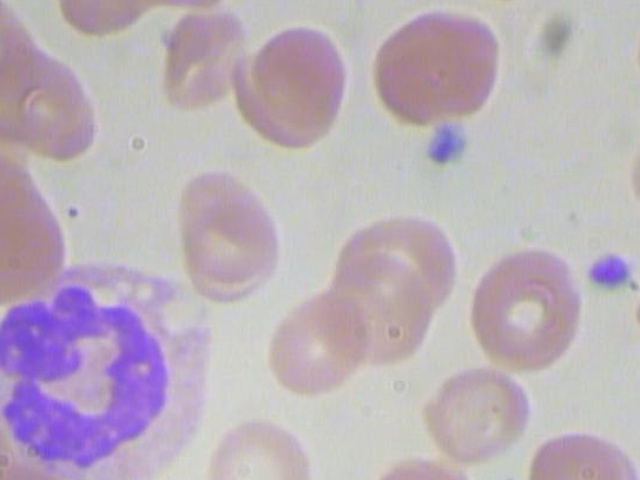Platelets: (574, 243, 633, 293), (424, 116, 474, 164)
RBC: (371, 8, 505, 131), (464, 244, 584, 380), (325, 248, 440, 373), (173, 163, 281, 292), (248, 14, 348, 137), (419, 364, 531, 469), (263, 290, 374, 395), (162, 7, 253, 118), (200, 419, 314, 480), (524, 421, 640, 480), (358, 452, 477, 480), (0, 397, 12, 480)
WBC: (0, 259, 232, 480)
